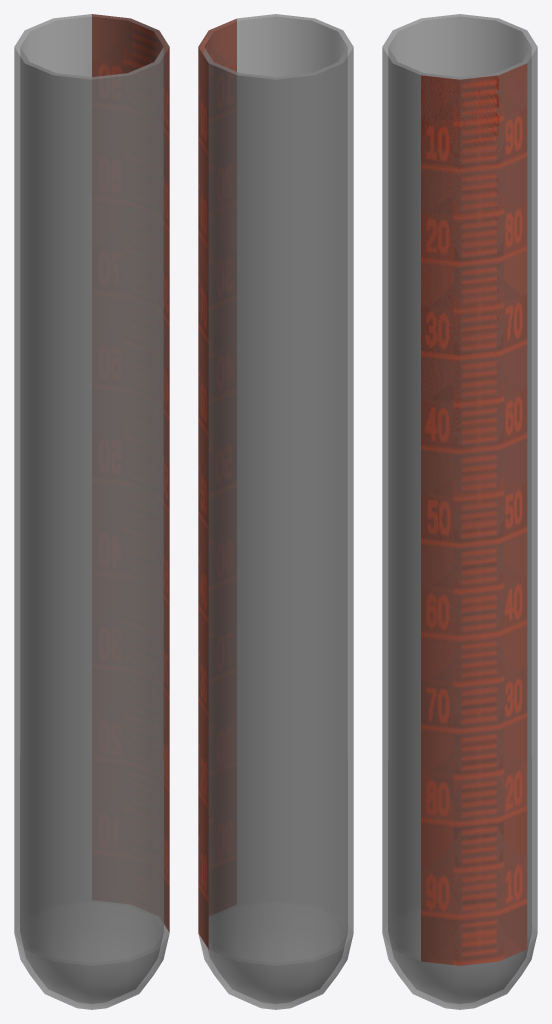
Rendered from SM_试管A_001.fbx.
The picture shows the model from 3 angles, left to right: view 1: azimuth 30°, elevation 25°; view 2: azimuth 150°, elevation 25°; view 3: azimuth 270°, elevation 25°; orthographic projection.
Visible parts, largest first — view 1: SM_试管A_001; view 2: SM_试管A_001; view 3: SM_试管A_001.
Boxes of the visible parts, left/top/right/bottom form: SM_试管A_001: left=14, top=14, right=169, bottom=1009; SM_试管A_001: left=198, top=14, right=353, bottom=1009; SM_试管A_001: left=382, top=14, right=537, bottom=1009.
Bounding box in the file's own units: 0.0127 × 0.0862 × 0.0127.
2 materials, 1 textured.
